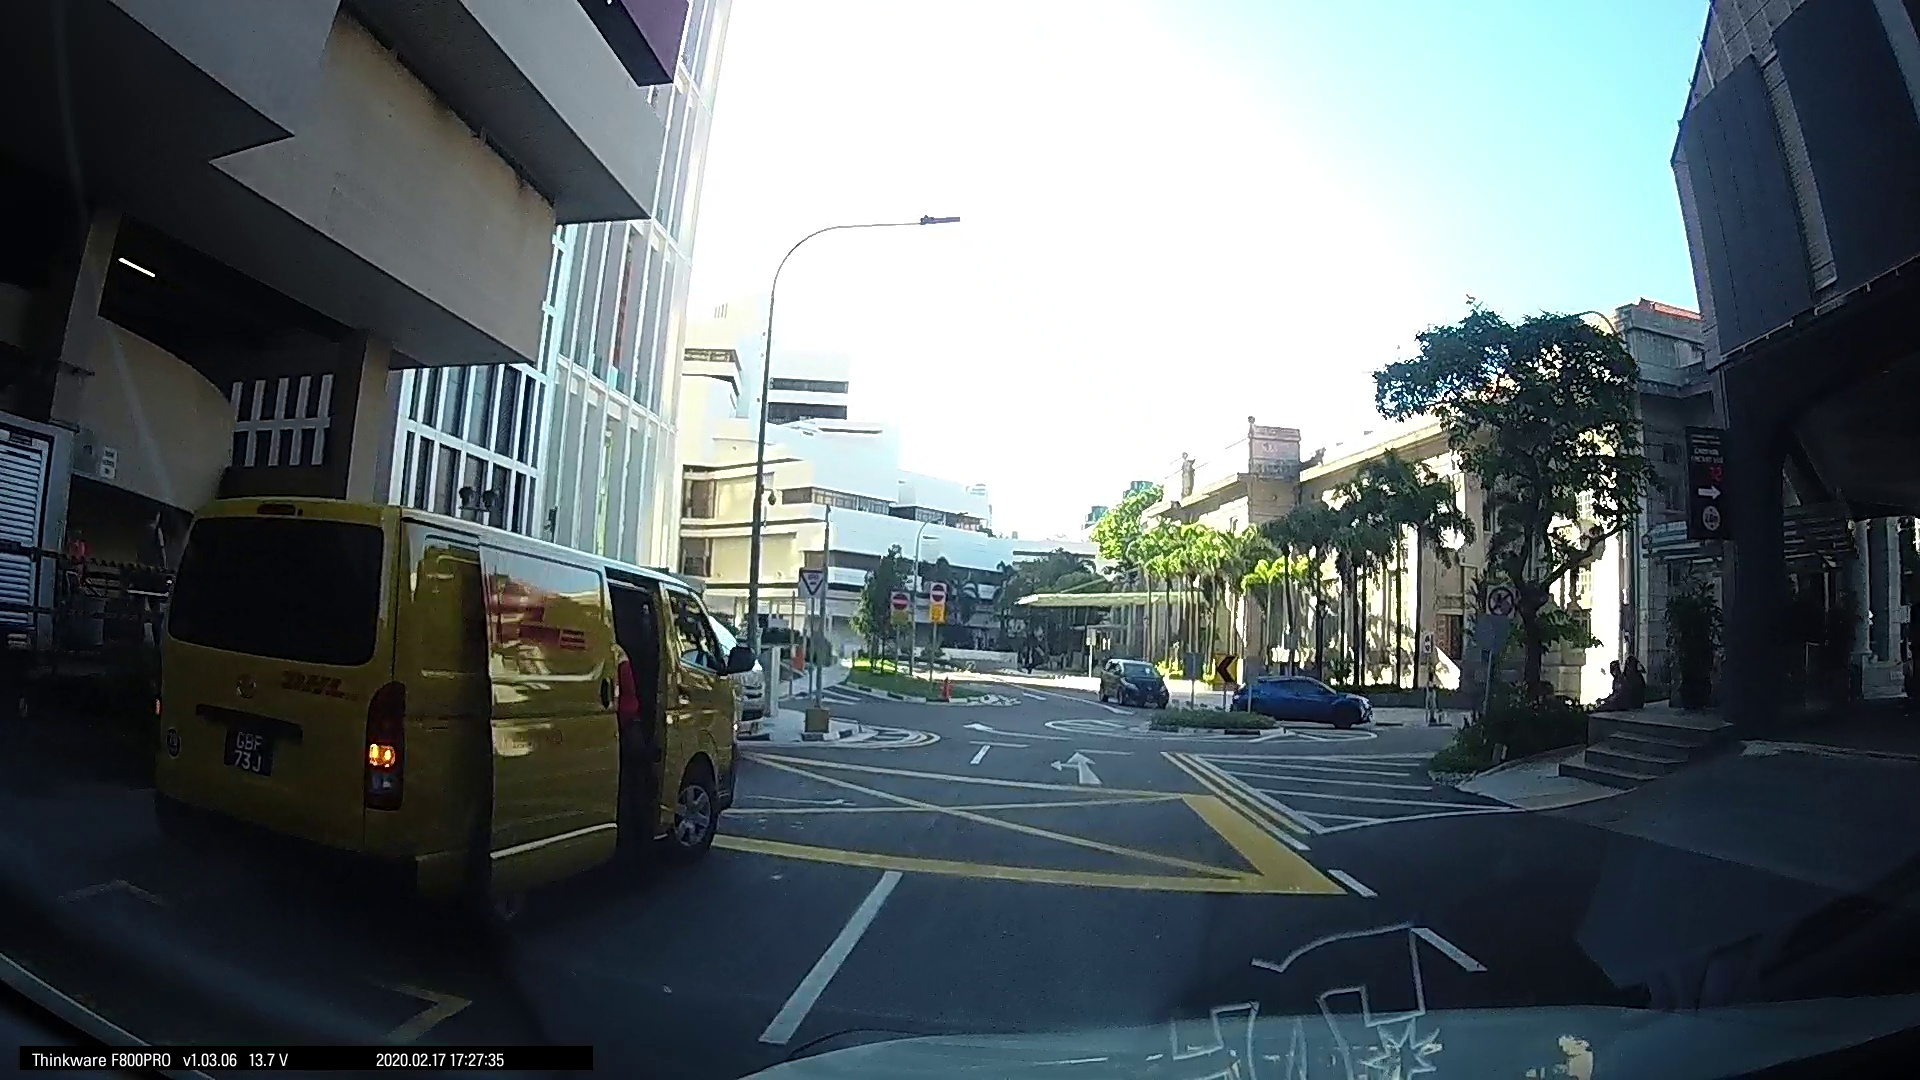Light Vehicle: (140, 498, 742, 916), (1237, 667, 1365, 728), (1095, 650, 1170, 707)
